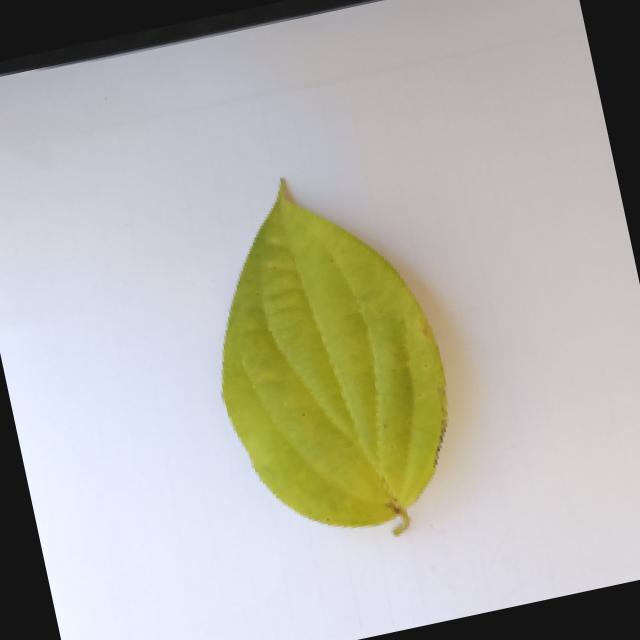slow-decline: (172, 155, 478, 570)
